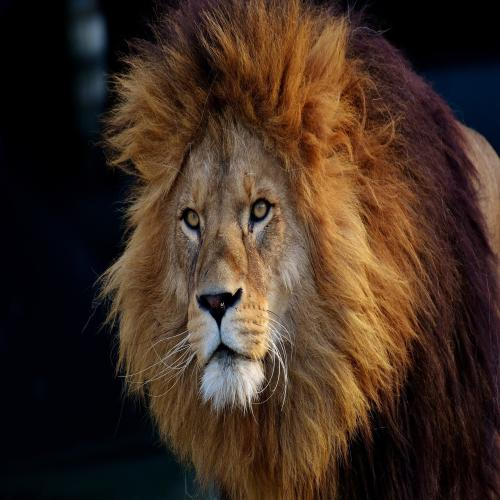lion-endangered: (108, 7, 500, 497)
